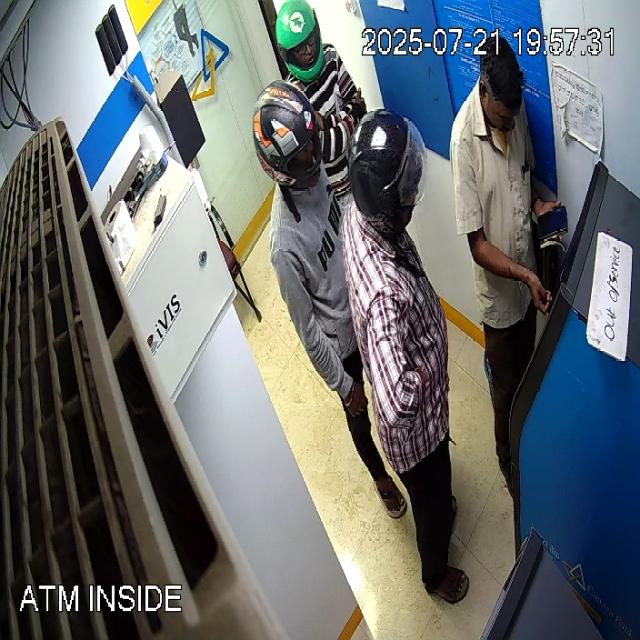helmet: (346, 107, 430, 242), (252, 79, 321, 190), (275, 0, 325, 83)
no_helmet: (478, 37, 523, 133)
